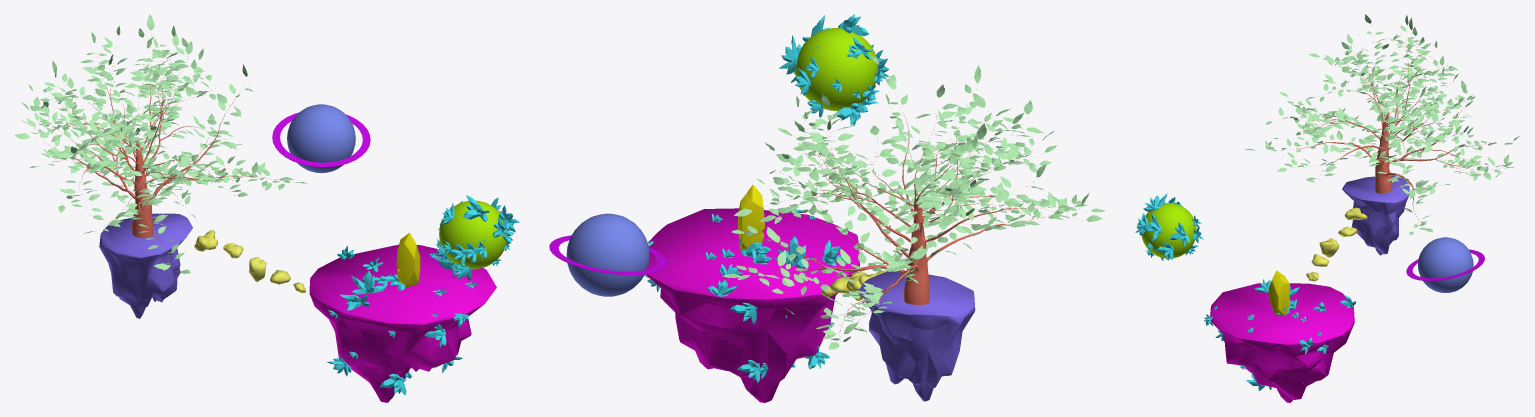
Rendered from planeta.fbx.
3 views of the same model, side by side, from view 1: azimuth 30°, elevation 25°; view 2: azimuth 150°, elevation 25°; view 3: azimuth 270°, elevation 25° (orthographic). The views are drawn at different scales.
Parts seen in each view (by area): view 1: leaves.001, main planet, tree planet, saturn, tree bark, Sphere.002, small rocks, saturn.001, main crystal, Cube; view 2: main planet, leaves.001, tree planet, saturn, Sphere.002, tree bark, main crystal, saturn.001, small rocks; view 3: leaves.001, main planet, tree planet, saturn, tree bark, Sphere.002, small rocks, main crystal, saturn.001.
Part boxes in pixels (left/top/right/bottom): leaves.001: left=14, top=14, right=307, bottom=273; main planet: left=309, top=244, right=496, bottom=402; tree planet: left=99, top=213, right=192, bottom=318; saturn: left=287, top=104, right=355, bottom=173; tree bark: left=38, top=58, right=271, bottom=261; Sphere.002: left=439, top=200, right=507, bottom=269; small rocks: left=194, top=230, right=306, bottom=293; saturn.001: left=272, top=112, right=370, bottom=167; main crystal: left=396, top=233, right=420, bottom=287; Cube: left=351, top=270, right=385, bottom=294; main planet: left=646, top=208, right=859, bottom=402; leaves.001: left=722, top=56, right=1105, bottom=349; tree planet: left=859, top=271, right=975, bottom=401; saturn: left=566, top=213, right=649, bottom=296; Sphere.002: left=795, top=28, right=878, bottom=110; tree bark: left=753, top=115, right=1068, bottom=331; main crystal: left=738, top=184, right=764, bottom=251; saturn.001: left=549, top=235, right=666, bottom=275; small rocks: left=821, top=270, right=886, bottom=300; leaves.001: left=1244, top=14, right=1519, bottom=235; main planet: left=1210, top=283, right=1354, bottom=402; tree planet: left=1342, top=175, right=1409, bottom=255; saturn: left=1418, top=237, right=1473, bottom=292; tree bark: left=1281, top=43, right=1505, bottom=222; Sphere.002: left=1141, top=203, right=1196, bottom=258; small rocks: left=1306, top=207, right=1367, bottom=281; main crystal: left=1268, top=270, right=1289, bottom=315; saturn.001: left=1406, top=249, right=1484, bottom=280.
Size of the model in its own units: 466 by 411 by 477.
